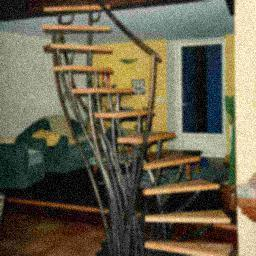Escaleras: (42, 5, 239, 254)
Matera: (217, 89, 241, 213)
Puerta: (177, 43, 225, 160)
